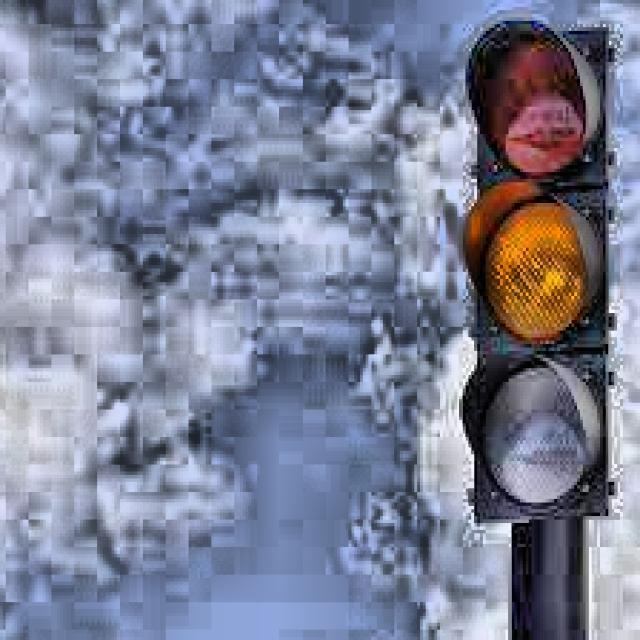yellow: (458, 17, 612, 527)
